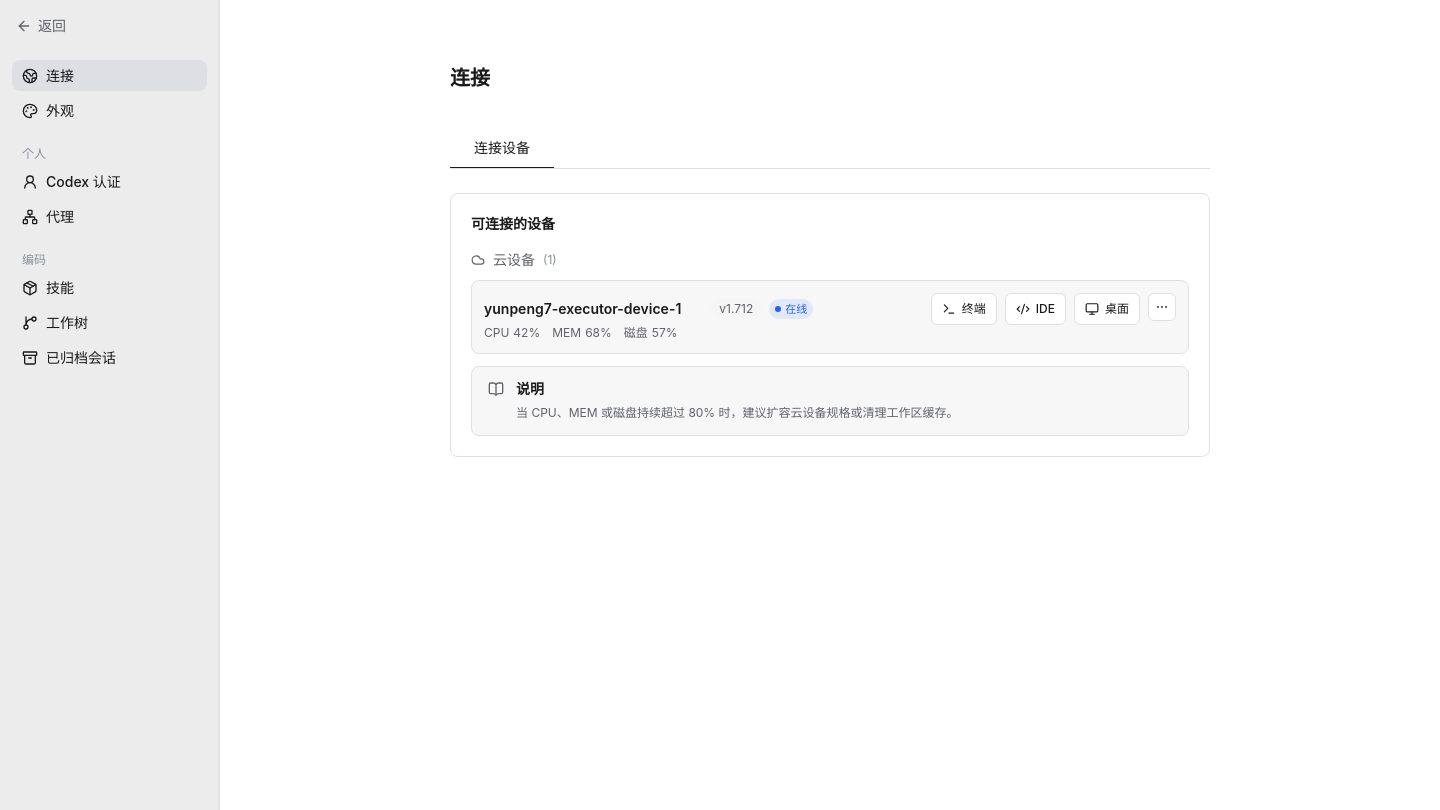
Scenario: ConnectionsSettingsPage › falls back to legacy ubuntu password field in cloud device connection info
The width and height of the screenshot is (1440, 810).
Expected: the element with test id "connection-device-device-1" is shown, [471,280,1189,354]
Click the button with test id "connection-more-button-device-1" at (1162, 307), box [1148,293,1176,321]
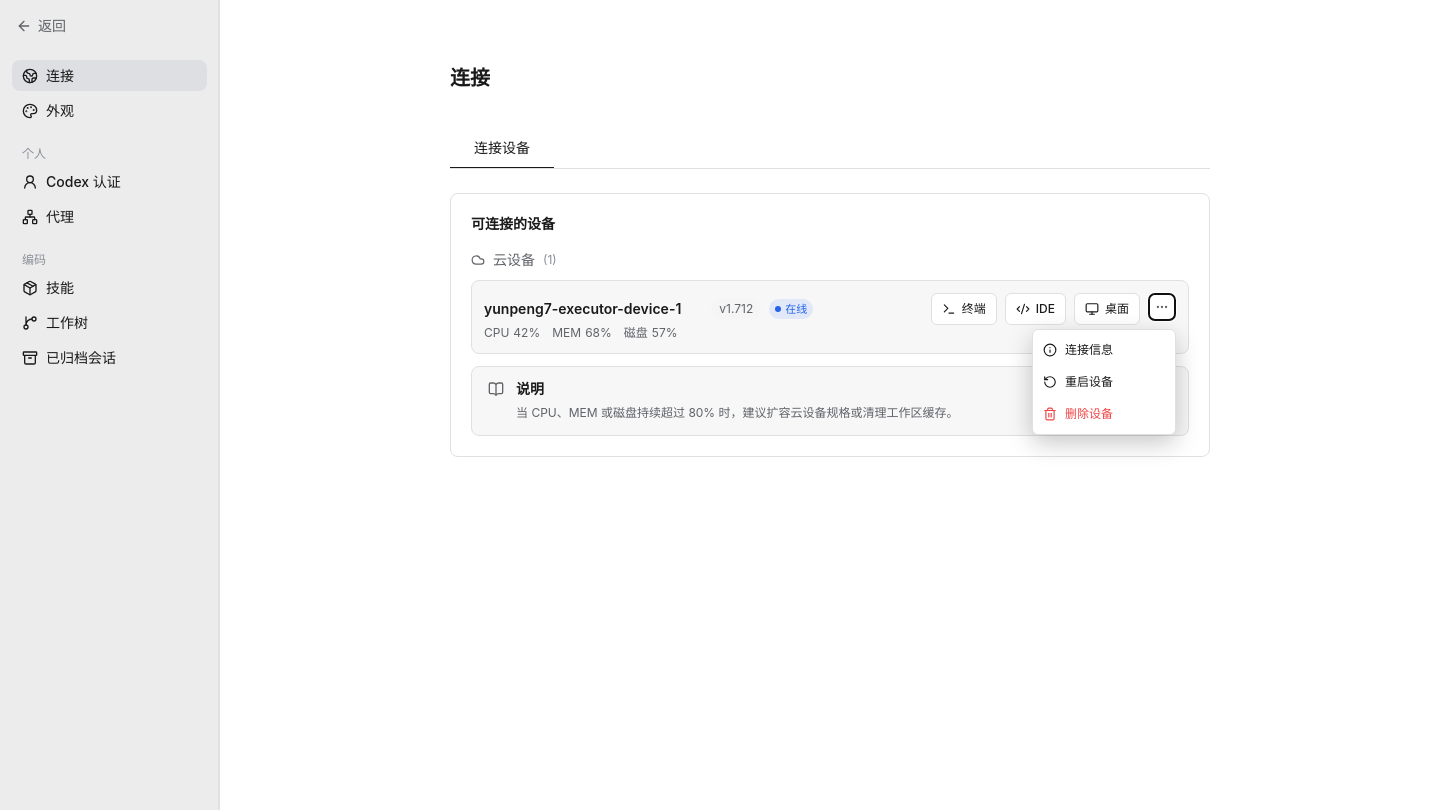
Click the button with test id "connection-info-menu-item-device-1" at (1104, 350), box [1033,334,1175,366]
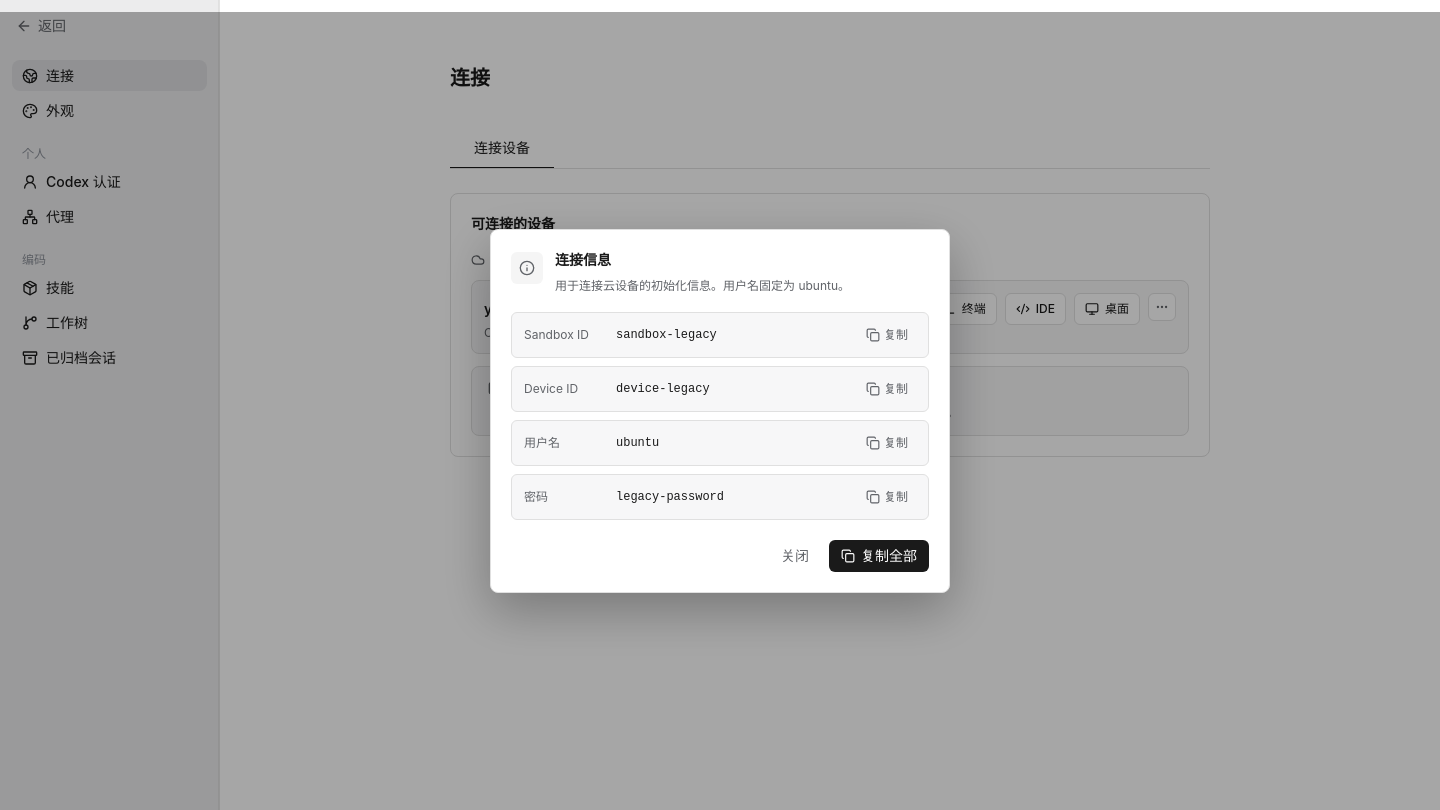
Now the element with test id "connection-info-dialog" shows "legacy-password", box [616,490,724,504]
